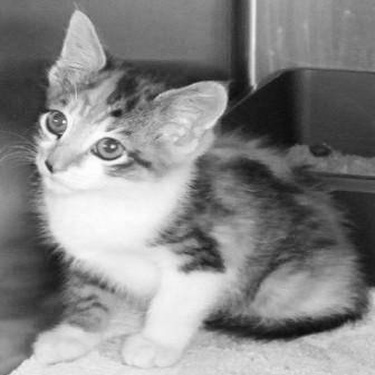cat: (1, 13, 374, 362)
